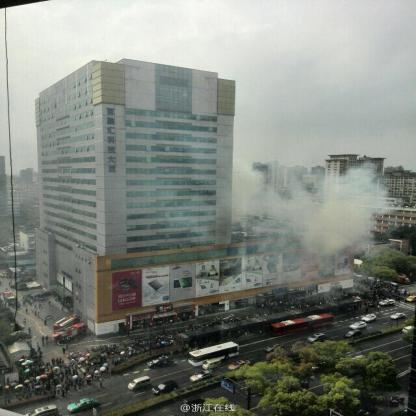smoke: (296, 168, 388, 250), (230, 159, 290, 217)
